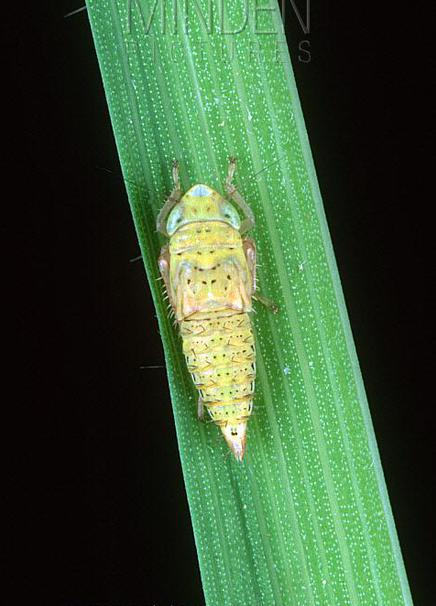Cicadellidae: (155, 156, 278, 460)
